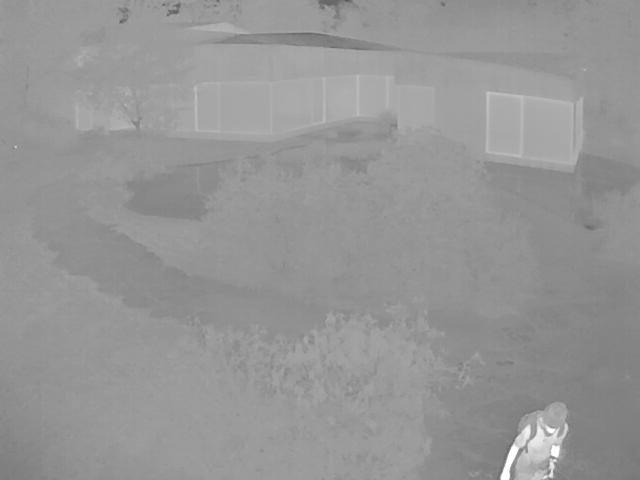person: (501, 400, 573, 477)
